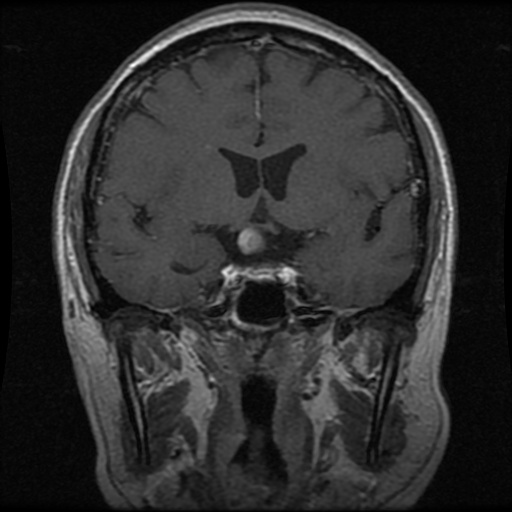pituitary: (236, 224, 264, 254)
